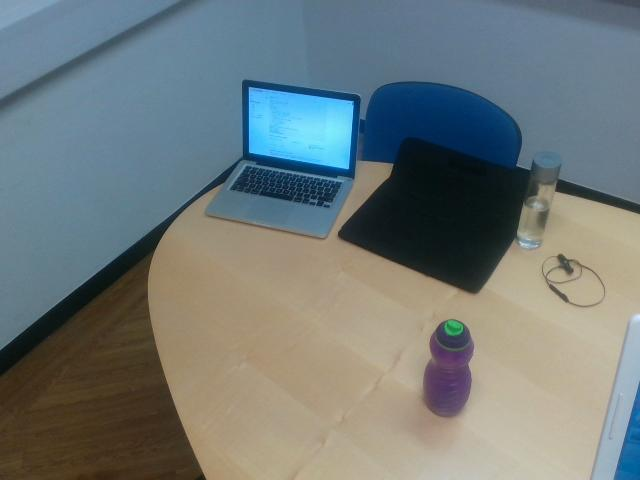bottle: (423, 320, 475, 415)
